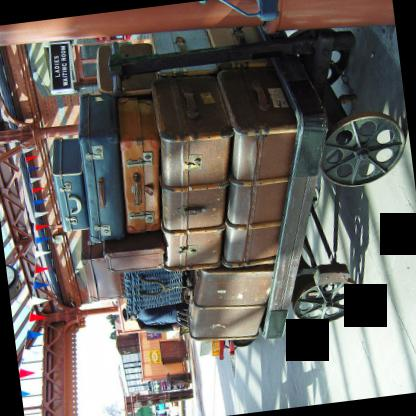suitcase: (150, 73, 234, 270), (219, 60, 296, 265), (77, 92, 121, 243), (116, 96, 162, 233), (186, 291, 267, 339), (183, 262, 273, 305), (49, 135, 89, 231), (97, 42, 158, 97), (150, 28, 218, 75), (81, 228, 124, 299), (102, 229, 165, 273)
